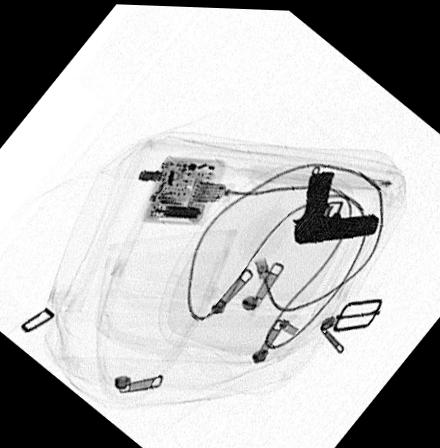Gun: (294, 168, 382, 242)
